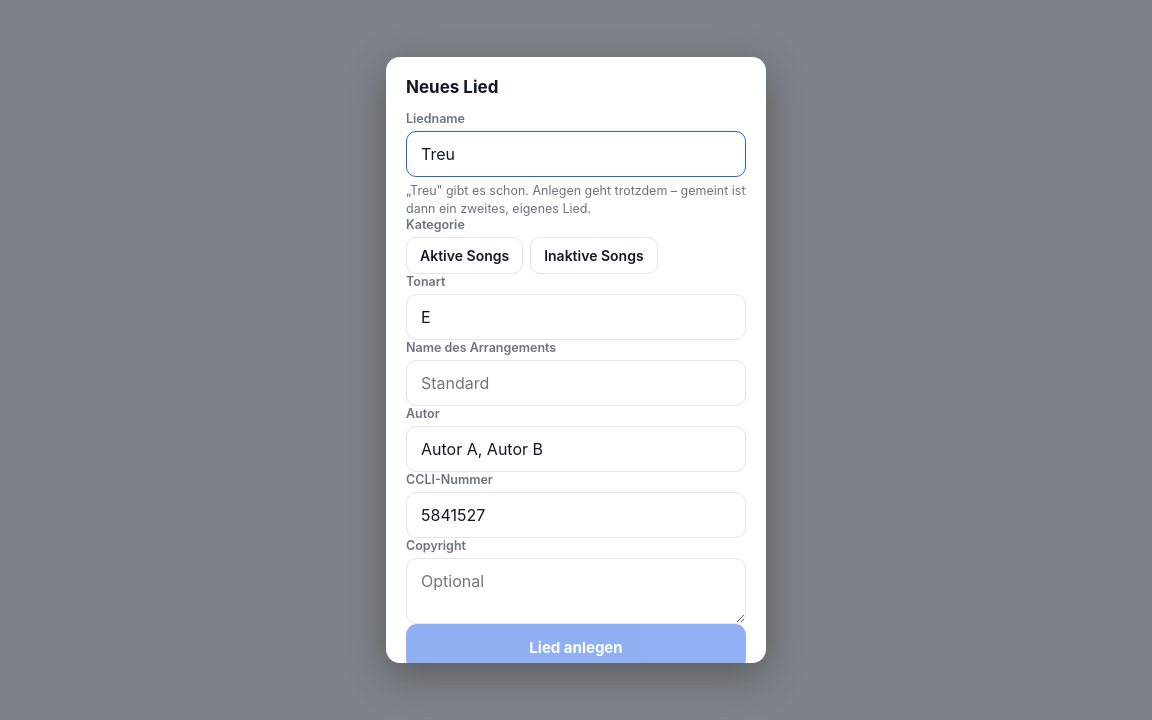
Test case: NewSongSheet – gibt es das Lied schon? (#395) › „Abbrechen" führt zurück ins Formular – nichts angelegt, nichts verworfen
Click the button "Aktive Songs": (465,256) [406,237,523,274]
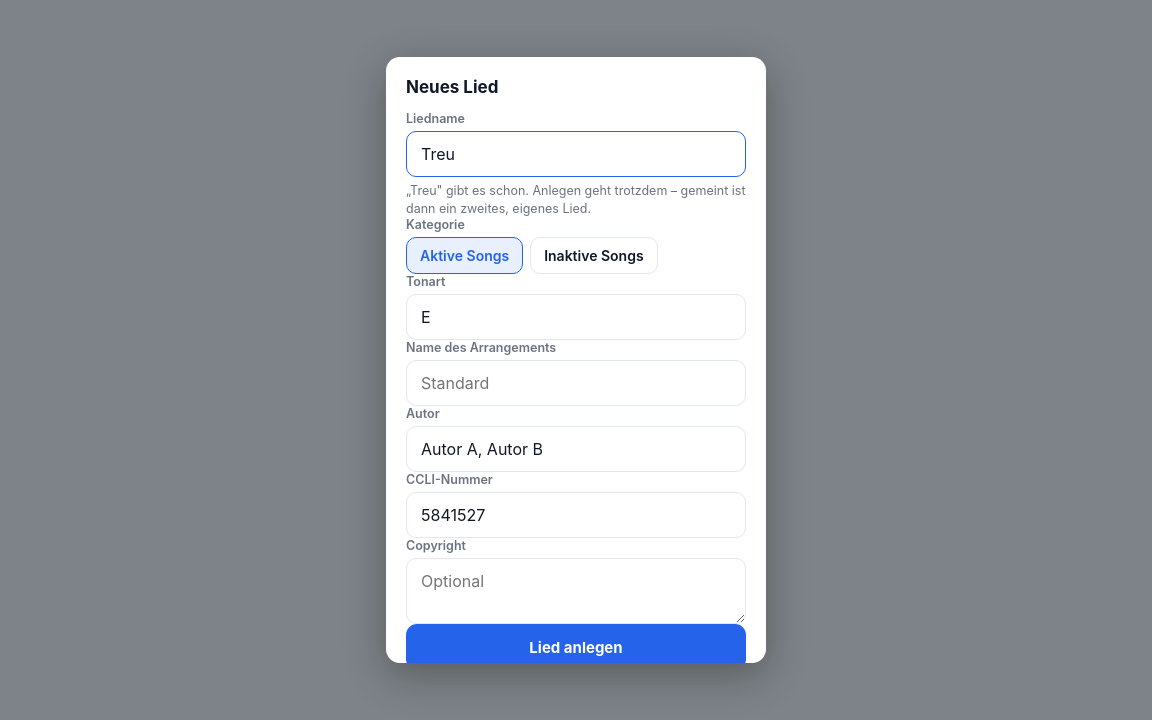
Click the button "Lied anlegen": (576,647) [406,624,746,670]
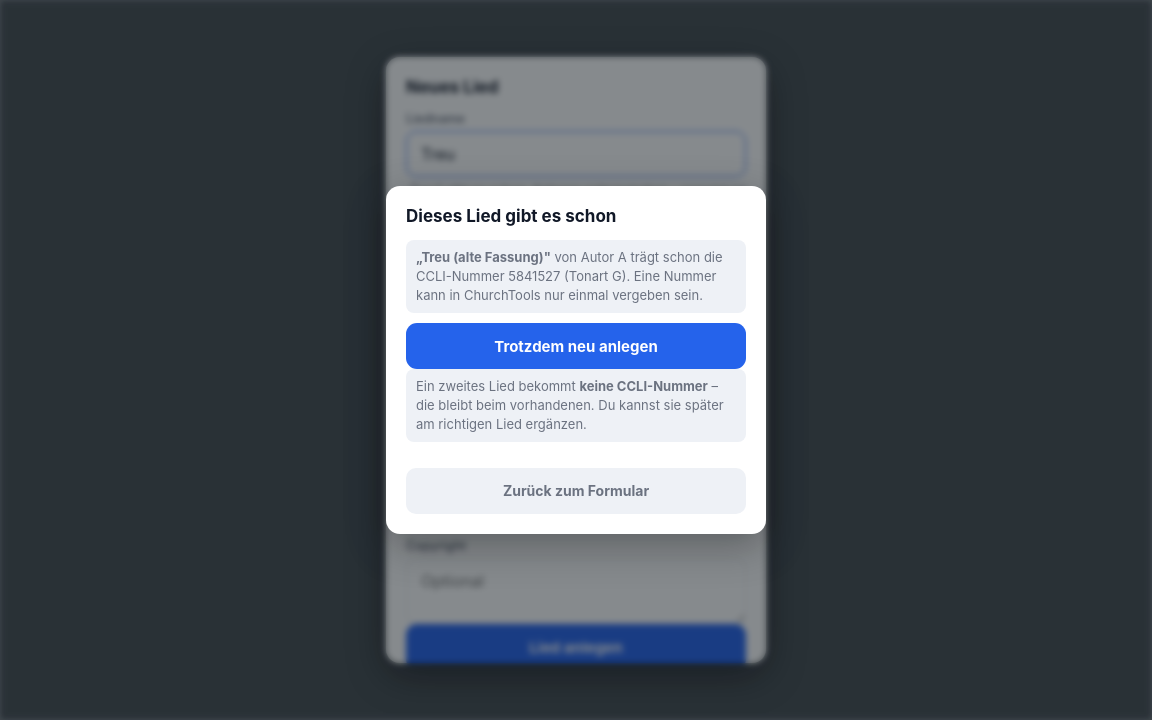
Click the button "Zurück zum Formular": (576,490) [406,468,746,514]
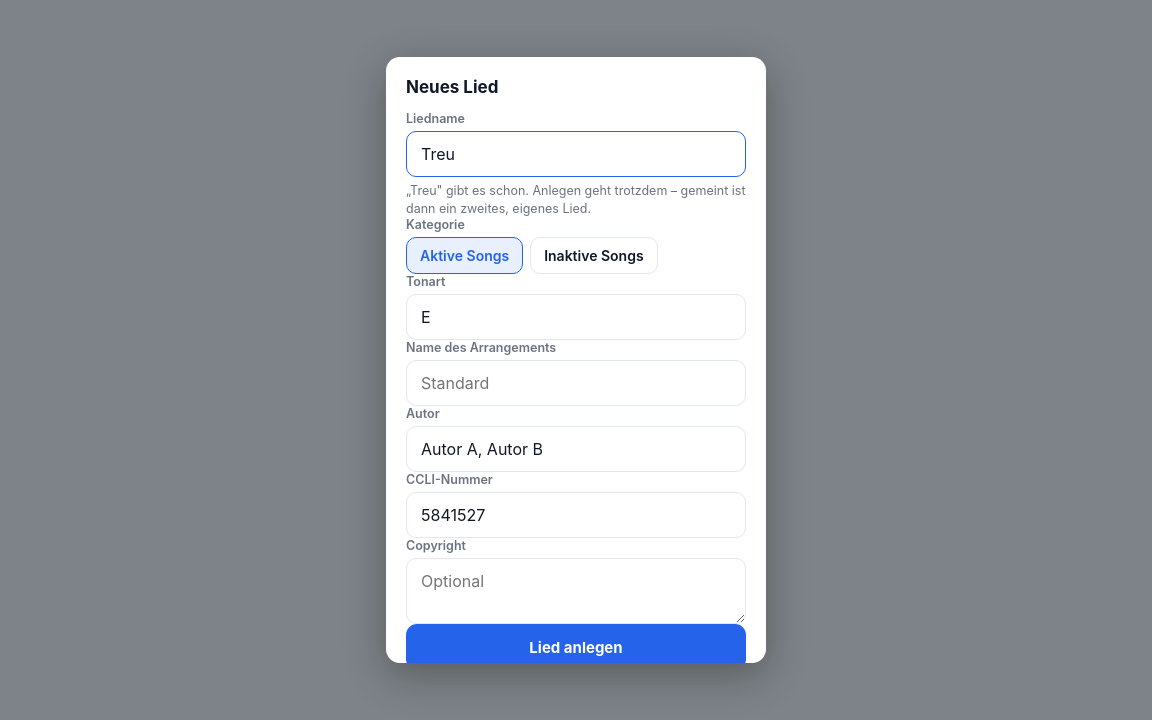
Expected: the field with placeholder "Titel des Liedes" below "Liedname" holds "Treu", [406,131,746,177]
Expected: the text "Dieses Lied gibt es schon" is gone
